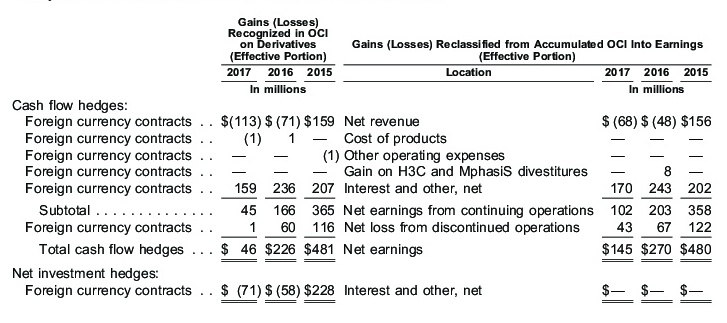table: (0, 0, 727, 323)
